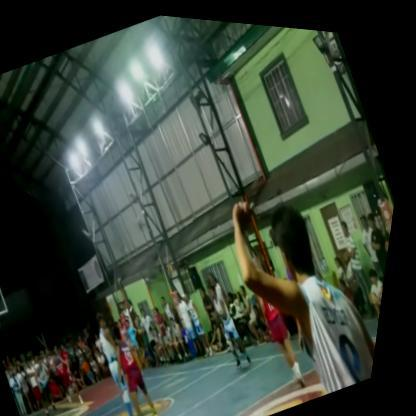rim: (0, 300, 20, 337)
